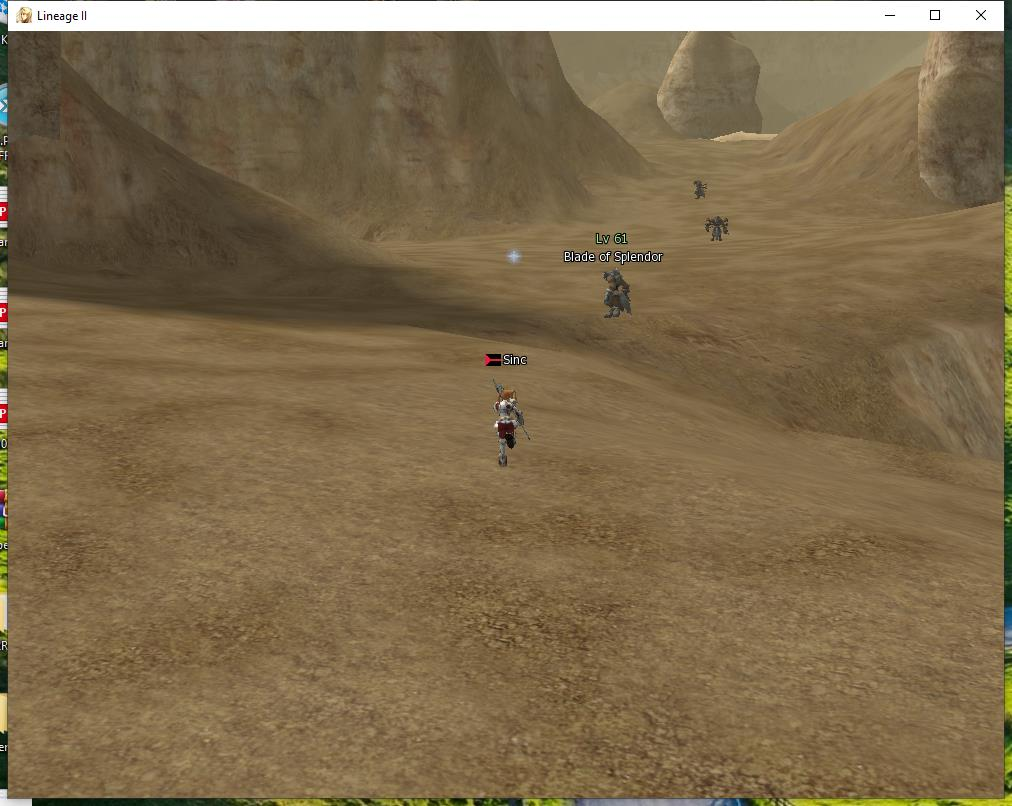monster: (570, 217, 659, 335), (699, 211, 738, 253), (694, 174, 722, 209)
